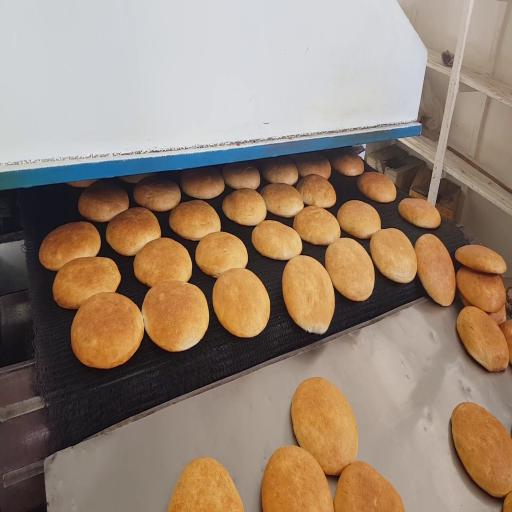bread: (291, 377, 358, 475), (452, 403, 511, 497), (71, 293, 143, 368), (142, 281, 209, 351), (262, 446, 333, 511), (282, 256, 334, 333), (213, 268, 270, 338), (168, 458, 243, 511), (53, 257, 121, 309), (334, 461, 404, 511), (457, 306, 509, 371), (326, 238, 374, 301), (39, 222, 100, 270), (415, 234, 455, 306), (134, 238, 192, 287), (106, 207, 161, 255), (370, 229, 417, 283), (195, 232, 247, 277), (456, 267, 505, 312), (78, 180, 129, 222), (169, 200, 220, 240), (252, 220, 302, 260), (133, 173, 181, 212), (294, 206, 340, 245), (337, 200, 381, 239), (222, 189, 266, 226), (455, 245, 506, 274), (261, 183, 303, 217), (181, 167, 224, 199), (297, 174, 336, 208), (399, 198, 441, 228), (358, 172, 396, 202), (262, 157, 298, 185), (222, 163, 260, 189), (295, 155, 331, 179), (330, 152, 364, 176), (500, 320, 511, 362), (488, 306, 506, 325), (120, 174, 152, 183), (68, 180, 97, 188), (503, 493, 511, 511)
